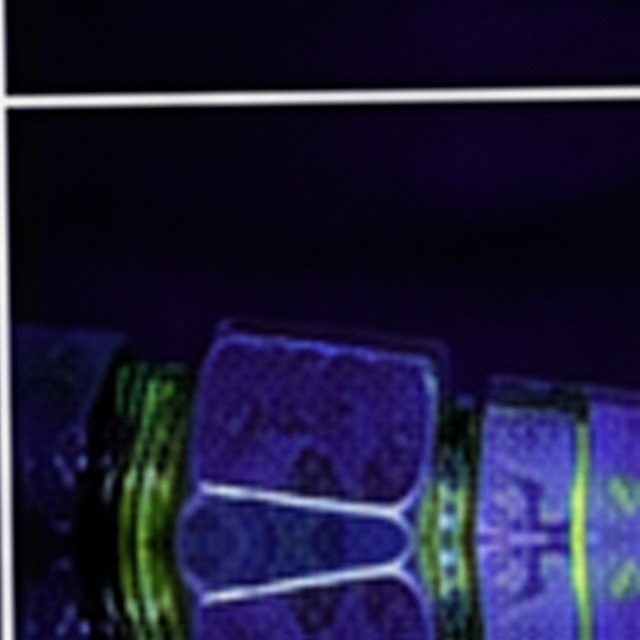hydraulic_oil_leak: (123, 424, 173, 551), (417, 467, 468, 583), (135, 380, 171, 459), (575, 432, 586, 474)
